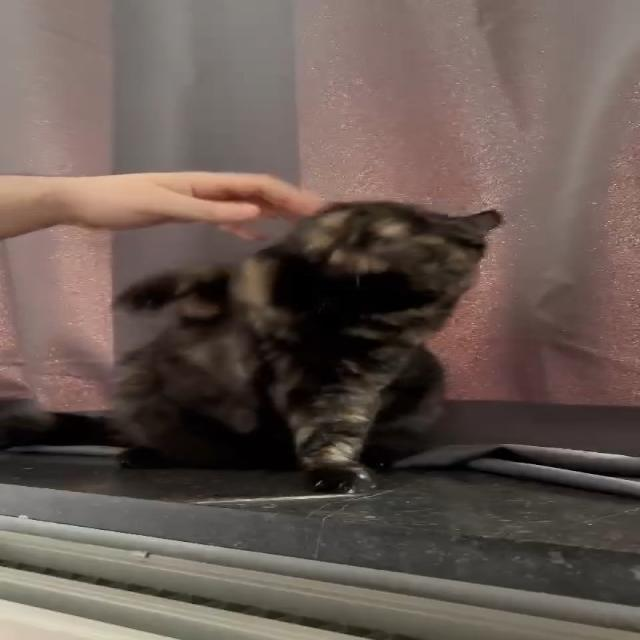authorized: (3, 198, 505, 494)
